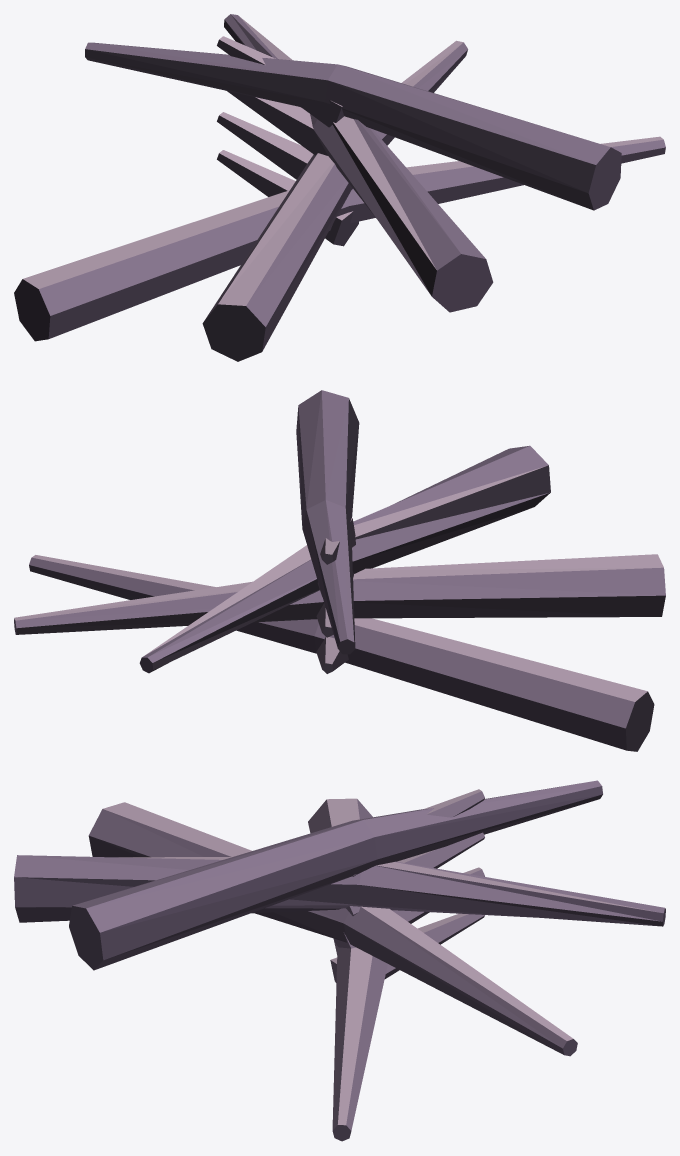
File: TW_PROP_BRANCH_PILE_B_LOD0.glb
3 views of the same model, one above another, from view 1: azimuth 30°, elevation 25°; view 2: azimuth 150°, elevation 25°; view 3: azimuth 270°, elevation 25° (orthographic). The views are drawn at different scales.
Parts seen in each view (by area): view 1: TW_PROP_BRANCH_PILE_B_LOD0; view 2: TW_PROP_BRANCH_PILE_B_LOD0; view 3: TW_PROP_BRANCH_PILE_B_LOD0.
Part boxes in pixels (left/top/right/bottom): TW_PROP_BRANCH_PILE_B_LOD0: left=14, top=14, right=665, bottom=361; TW_PROP_BRANCH_PILE_B_LOD0: left=14, top=390, right=665, bottom=751; TW_PROP_BRANCH_PILE_B_LOD0: left=14, top=780, right=665, bottom=1141.
Size of the model in its own units: 1.4 by 0.4075 by 1.21.
Materials: 1 (1 with a texture image).
